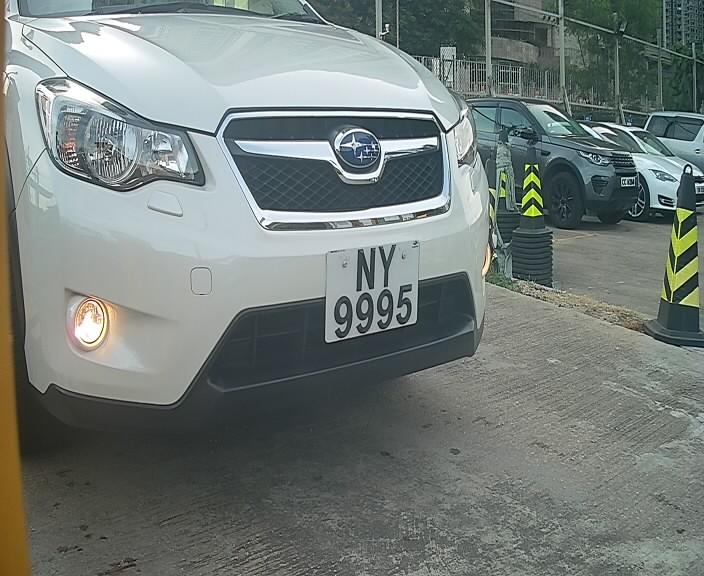License Plate: (315, 229, 425, 353)
